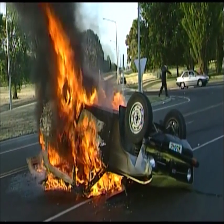fire_h: (42, 4, 105, 184), (89, 172, 124, 199), (45, 171, 72, 193)
fire_l: (112, 92, 125, 111), (38, 131, 46, 152), (35, 158, 46, 173)
